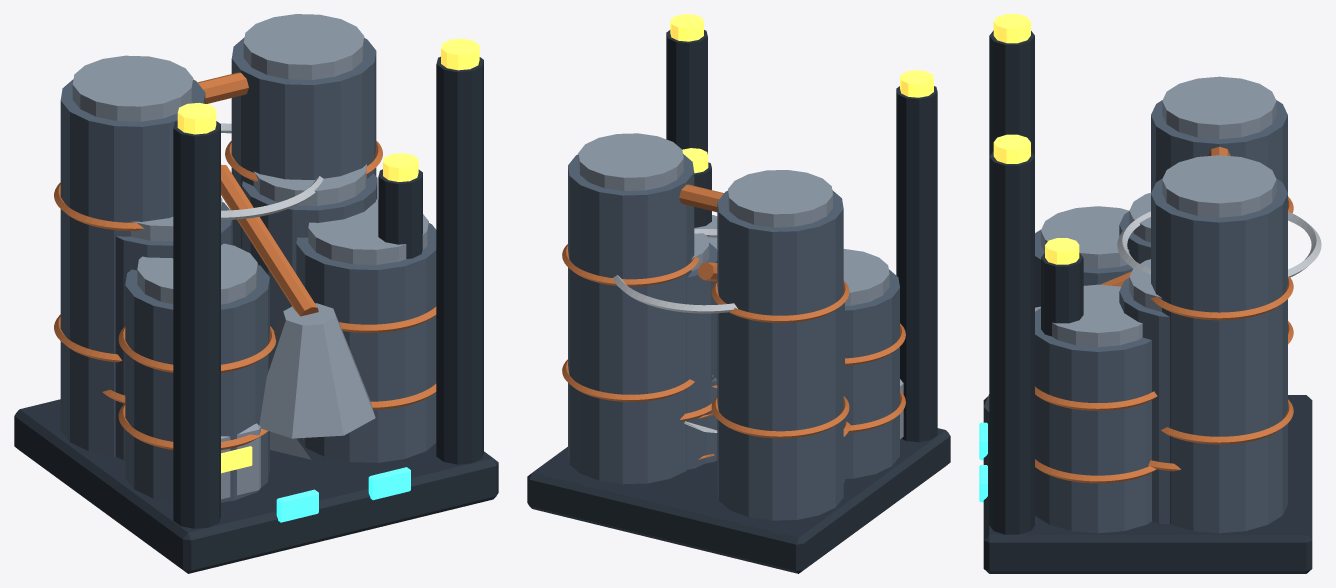
Rendered from refinery.glb.
The picture shows the model from 3 angles, left to right: view 1: azimuth 30°, elevation 25°; view 2: azimuth 150°, elevation 25°; view 3: azimuth 270°, elevation 25°; orthographic projection. The views are drawn at different scales.
Parts seen in each view (by area): view 1: Refinery | skid.001__Facility_refinery_T2, Refinery | tank.002__Facility_refinery_T2, Refinery | tank.005__Facility_refinery_T2, Refinery | stack.002__Facility_refinery_T2, Refinery | stack.001__Facility_refinery_T2, Refinery | tank.004__Facility_refinery_T2, Refinery | tank.003__Facility_refinery_T2, Refinery | crusher hopper__Facility_refinery_T2, Refinery | tank cap.003__Facility_refinery_T2, Refinery | tank cap.002__Facility_refinery_T2, Refinery | tank.001__Facility_refinery_T1, Refinery | tank cap.005__Facility_refinery_T2 (+22 smaller); view 2: Refinery | tank.002__Facility_refinery_T2, Refinery | tank.003__Facility_refinery_T2, Refinery | skid.001__Facility_refinery_T2, Refinery | stack.001__Facility_refinery_T2, Refinery | tank.004__Facility_refinery_T2, Refinery | tank cap.003__Facility_refinery_T2, Refinery | tank cap.002__Facility_refinery_T2, Refinery | tank.001__Facility_refinery_T1, Refinery | stack.002__Facility_refinery_T2, Refinery | tank cap.004__Facility_refinery_T2, Refinery | catwalk__Facility_refinery_T2, Refinery | tank band.002__Facility_refinery_T2 (+10 smaller); view 3: Refinery | tank.003__Facility_refinery_T2, Refinery | tank.005__Facility_refinery_T2, Refinery | skid.001__Facility_refinery_T2, Refinery | stack.002__Facility_refinery_T2, Refinery | tank cap.003__Facility_refinery_T2, Refinery | tank cap.002__Facility_refinery_T2, Refinery | tank.002__Facility_refinery_T2, Refinery | stack.001__Facility_refinery_T2, Refinery | tank.001__Facility_refinery_T1, Refinery | tank cap.004__Facility_refinery_T2, Refinery | tank cap.005__Facility_refinery_T2, Refinery | stack__Facility_refinery_T1 (+12 smaller).
Boxes of the visible parts, box(x1,y1,x2,y2) form: Refinery | skid.001__Facility_refinery_T2: box(14, 399, 498, 573); Refinery | tank.002__Facility_refinery_T2: box(60, 79, 205, 456); Refinery | tank.005__Facility_refinery_T2: box(296, 223, 436, 462); Refinery | stack.002__Facility_refinery_T2: box(436, 56, 483, 464); Refinery | stack.001__Facility_refinery_T2: box(173, 121, 220, 528); Refinery | tank.004__Facility_refinery_T2: box(125, 264, 269, 502); Refinery | tank.003__Facility_refinery_T2: box(231, 37, 376, 248); Refinery | crusher hopper__Facility_refinery_T2: box(259, 303, 375, 438); Refinery | tank cap.003__Facility_refinery_T2: box(243, 14, 364, 79); Refinery | tank cap.002__Facility_refinery_T2: box(72, 55, 193, 121); Refinery | tank.001__Facility_refinery_T1: box(242, 173, 377, 331); Refinery | tank cap.005__Facility_refinery_T2: box(308, 199, 428, 264); Refinery | tank.002__Facility_refinery_T2: box(717, 190, 843, 520); Refinery | tank.003__Facility_refinery_T2: box(568, 154, 694, 484); Refinery | skid.001__Facility_refinery_T2: box(527, 428, 950, 573); Refinery | stack.001__Facility_refinery_T2: box(896, 86, 937, 442); Refinery | tank.004__Facility_refinery_T2: box(845, 269, 899, 478); Refinery | tank cap.003__Facility_refinery_T2: box(578, 133, 683, 190); Refinery | tank cap.002__Facility_refinery_T2: box(728, 170, 832, 227); Refinery | tank.001__Facility_refinery_T1: box(687, 242, 717, 469); Refinery | stack.002__Facility_refinery_T2: box(666, 30, 707, 154); Refinery | tank cap.004__Facility_refinery_T2: box(843, 249, 889, 305); Refinery | catwalk__Facility_refinery_T2: box(613, 229, 737, 313); Refinery | tank band.002__Facility_refinery_T2: box(711, 396, 849, 438); Refinery | tank.003__Facility_refinery_T2: box(1151, 178, 1287, 533); Refinery | tank.005__Facility_refinery_T2: box(1035, 308, 1151, 533); Refinery | skid.001__Facility_refinery_T2: box(983, 395, 1312, 573); Refinery | stack.002__Facility_refinery_T2: box(989, 151, 1034, 534); Refinery | tank cap.003__Facility_refinery_T2: box(1162, 155, 1276, 217); Refinery | tank cap.002__Facility_refinery_T2: box(1162, 76, 1276, 139); Refinery | tank.002__Facility_refinery_T2: box(1151, 100, 1287, 192); Refinery | stack.001__Facility_refinery_T2: box(989, 30, 1034, 155); Refinery | tank.001__Facility_refinery_T1: box(1119, 278, 1169, 524); Refinery | tank cap.004__Facility_refinery_T2: box(1041, 206, 1129, 268); Refinery | tank cap.005__Facility_refinery_T2: box(1052, 284, 1142, 347); Refinery | stack__Facility_refinery_T1: box(1041, 253, 1083, 336).
Bounding box in the file's own units: 2.4 × 3.26 × 2.4.
